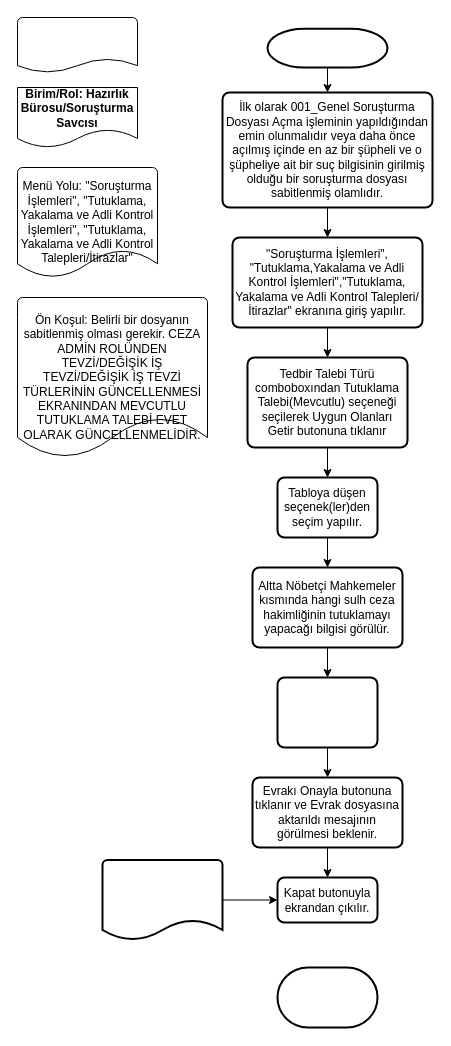
Some shapes in this 451 by 1046 pixel diagram are drawn without their labels. Each missing label, with the centre of its shape:
"Başla" belongs at point 327,47.
"Bitir" belongs at point 327,997.
"Bundan sonraki aşama iligli sulh ceza hakimliğinin katip rolünden yapılacaktır." belongs at point 162,899.
"Kaydet butonuna basılır ve işlemin başarılı olması beklenir." belongs at point 327,712.
"Modül: CBS" belongs at point 77,44.
